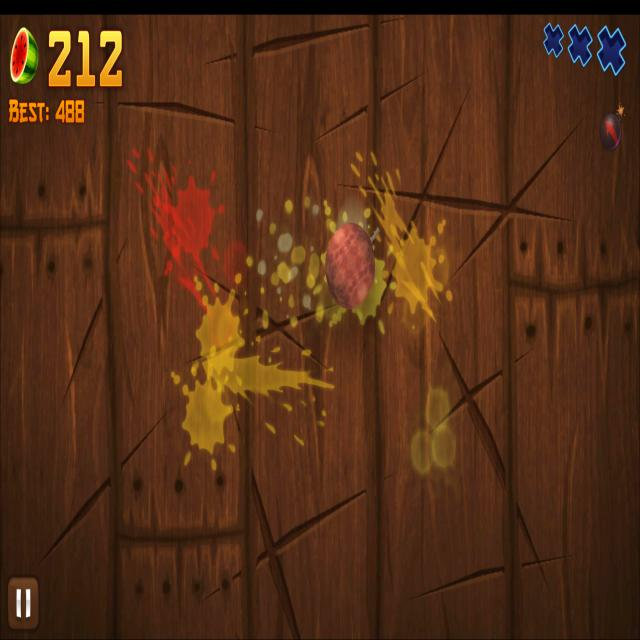fruit: (326, 223, 375, 309)
